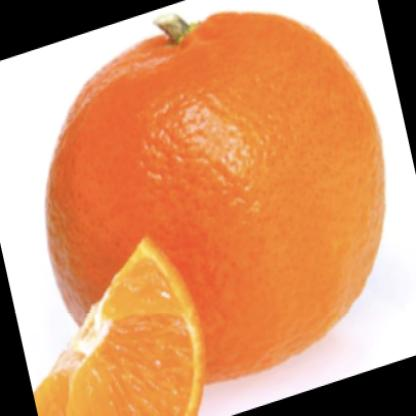fresh: (48, 15, 386, 382)
